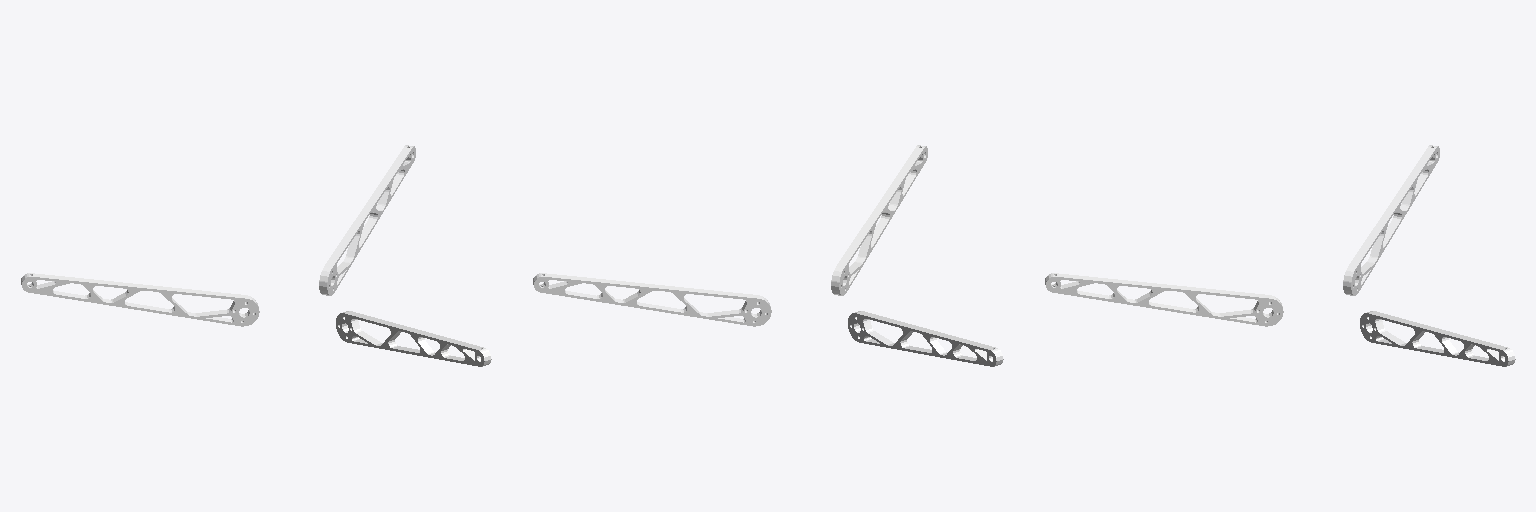
URDF robot description (Final555Assembly):
<?xml version="1.0" encoding="utf-8"?>
<!-- This URDF was automatically created by SolidWorks to URDF Exporter! Originally created by Stephen Brawner ([email redacted]) 
     Commit Version: 1.6.0-4-g7f85cfe  Build Version: 1.6.7995.38578
     For more information, please see http://wiki.ros.org/sw_urdf_exporter -->
<robot
  name="Final555Assembly">
  <link
    name="base_link">
    <inertial>
      <origin
        xyz="0.0771175017135775 -0.107771067421505 0.188664208736546"
        rpy="0 0 0" />
      <mass
        value="28.5330754639332" />
      <inertia
        ixx="0.326743067163912"
        ixy="0.00813670255648942"
        ixz="0.000910378205996769"
        iyy="12.1941702487415"
        iyz="-3.8730301390126E-06"
        izz="11.9799900289709" />
    </inertial>
    <visual>
      <origin
        xyz="0 0 0"
        rpy="0 0 0" />
      <geometry>
        <mesh
          filename="package://Final555Assembly/meshes/base_link.STL" />
      </geometry>
      <material
        name="">
        <color
          rgba="0.792156862745098 0.819607843137255 0.933333333333333 1" />
      </material>
    </visual>
    <collision>
      <origin
        xyz="0 0 0"
        rpy="0 0 0" />
      <geometry>
        <mesh
          filename="package://Final555Assembly/meshes/base_link.STL" />
      </geometry>
    </collision>
  </link>
  <link
    name="Link1">
    <inertial>
      <origin
        xyz="-2.3203E-09 -0.00031456 0.10979"
        rpy="0 0 0" />
      <mass
        value="0.032841" />
      <inertia
        ixx="0.00025619"
        ixy="-5.1172E-14"
        ixz="8.4008E-12"
        iyy="0.00025307"
        iyz="-2.9701E-07"
        izz="3.6661E-06" />
    </inertial>
    <visual>
      <origin
        xyz="0 0 0"
        rpy="0 0 0" />
      <geometry>
        <mesh
          filename="package://Final555Assembly/meshes/Link1.STL" />
      </geometry>
      <material
        name="">
        <color
          rgba="0.99608 0.99608 1 1" />
      </material>
    </visual>
    <collision>
      <origin
        xyz="0 0 0"
        rpy="0 0 0" />
      <geometry>
        <mesh
          filename="package://Final555Assembly/meshes/Link1.STL" />
      </geometry>
    </collision>
  </link>
  <joint
    name="joint3"
    type="revolute">
    <origin
      xyz="0.011359 -0.16261 0.29955"
      rpy="1.364 0 -1.9502" />
    <parent
      link="base_link" />
    <child
      link="Link1" />
    <axis
      xyz="0 1 0" />
    <limit
      lower="-0.7"
      upper="1.5"
      effort="0"
      velocity="0" />
    <mimic
      joint=""
      multiplier="1"
      offset="0" />
  </joint>
  <link
    name="Link2">
    <inertial>
      <origin
        xyz="-2.3203E-09 -0.00031456 0.10979"
        rpy="0 0 0" />
      <mass
        value="0.032841" />
      <inertia
        ixx="0.00025619"
        ixy="-5.1172E-14"
        ixz="8.4008E-12"
        iyy="0.00025307"
        iyz="-2.9701E-07"
        izz="3.6661E-06" />
    </inertial>
    <visual>
      <origin
        xyz="0 0 0"
        rpy="0 0 0" />
      <geometry>
        <mesh
          filename="package://Final555Assembly/meshes/Link2.STL" />
      </geometry>
      <material
        name="">
        <color
          rgba="0.99608 0.99608 1 1" />
      </material>
    </visual>
    <collision>
      <origin
        xyz="0 0 0"
        rpy="0 0 0" />
      <geometry>
        <mesh
          filename="package://Final555Assembly/meshes/Link2.STL" />
      </geometry>
    </collision>
  </link>
  <joint
    name="joint1"
    type="revolute">
    <origin
      xyz="0.1356 -0.14019 0.29955"
      rpy="1.364 0 2.2386" />
    <parent
      link="base_link" />
    <child
      link="Link2" />
    <axis
      xyz="0 1 0" />
    <limit
      lower="-0.7"
      upper="1.5"
      effort="0"
      velocity="0" />
  </joint>
  <link
    name="link3">
    <inertial>
      <origin
        xyz="0 0 0"
        rpy="0 0 0" />
      <mass
        value="0" />
      <inertia
        ixx="0"
        ixy="0"
        ixz="0"
        iyy="0"
        iyz="0"
        izz="0" />
    </inertial>
    <visual>
      <origin
        xyz="0 0 0"
        rpy="0 0 0" />
      <geometry>
        <mesh
          filename="package://Final555Assembly/meshes/link3.STL" />
      </geometry>
      <material
        name="">
        <color
          rgba="1 1 1 1" />
      </material>
    </visual>
    <collision>
      <origin
        xyz="0 0 0"
        rpy="0 0 0" />
      <geometry>
        <mesh
          filename="package://Final555Assembly/meshes/link3.STL" />
      </geometry>
    </collision>
  </link>
  <joint
    name="joint2"
    type="revolute">
    <origin
      xyz="0.092898 -0.259 0.29955"
      rpy="1.364 0 0.14424" />
    <parent
      link="base_link" />
    <child
      link="link3" />
    <axis
      xyz="0 1 0" />
    <limit
      lower="-0.7"
      upper="1.5"
      effort="0"
      velocity="0" />
  </joint>
</robot>

--- What the picture shows (computed from the rendered views, not written in the file) ---
The picture shows the robot from 3 angles, left to right: view 1: azimuth 30°, elevation 25°; view 2: azimuth 150°, elevation 25°; view 3: azimuth 270°, elevation 25°; orthographic projection.
Robot: Final555Assembly — 4 links, 3 joints (3 revolute); root link base_link; default pose: all joints at 0.
Visible links, largest first — view 1: Link1, Link2, link3; view 2: Link2, link3, Link1; view 3: link3, Link1, Link2.
Link boxes in pixels (bbox=[...]): Link1: bbox=[21, 273, 259, 326]; Link2: bbox=[319, 145, 415, 295]; link3: bbox=[336, 311, 491, 366]; Link2: bbox=[533, 273, 771, 326]; link3: bbox=[831, 145, 927, 295]; Link1: bbox=[848, 311, 1003, 366]; link3: bbox=[1045, 273, 1283, 326]; Link1: bbox=[1343, 145, 1439, 295]; Link2: bbox=[1360, 311, 1515, 366].
Size in the robot's own frame: 0.5657 by 0.5332 by 0.0786 metres.
Meshes: 4 distinct files referenced, 3 mesh visuals loaded (3 binary STL); not drawn: 1 (reference not matched to a file when rendering).
